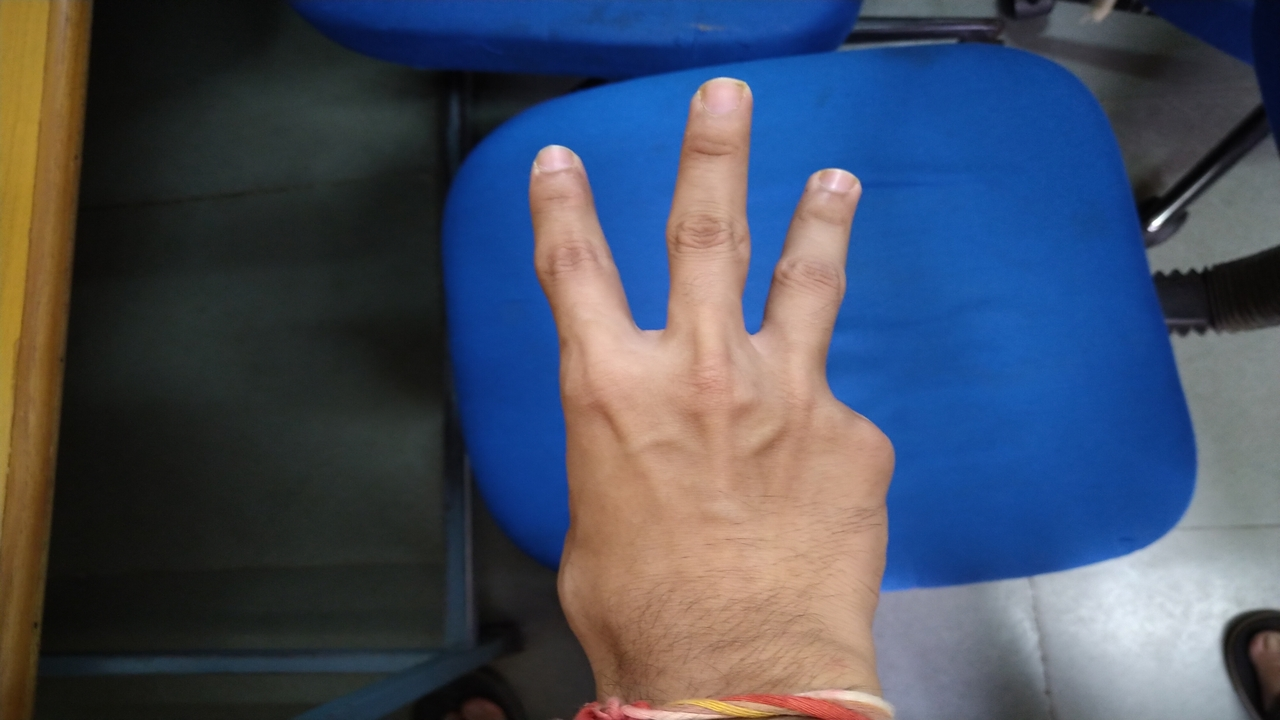fingertip: (680, 66, 758, 138), (790, 158, 876, 220), (522, 138, 590, 204)
